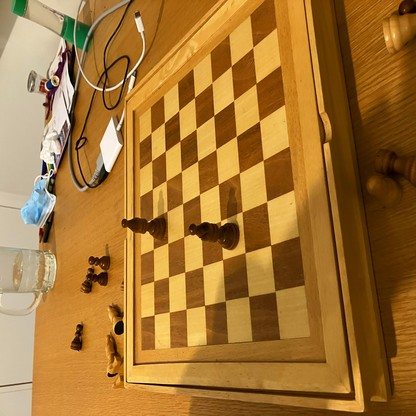bishop_black: (190, 223, 238, 250), (121, 217, 166, 240)
bishop_white: (106, 332, 119, 377)
knight_white: (110, 357, 127, 375), (113, 376, 127, 389)
pawn_black: (81, 269, 95, 295), (70, 324, 82, 352), (88, 272, 108, 286), (89, 257, 111, 269)
pawn_white: (367, 177, 404, 208)
queen_white: (109, 306, 125, 334)
rock_black: (374, 149, 416, 184)
